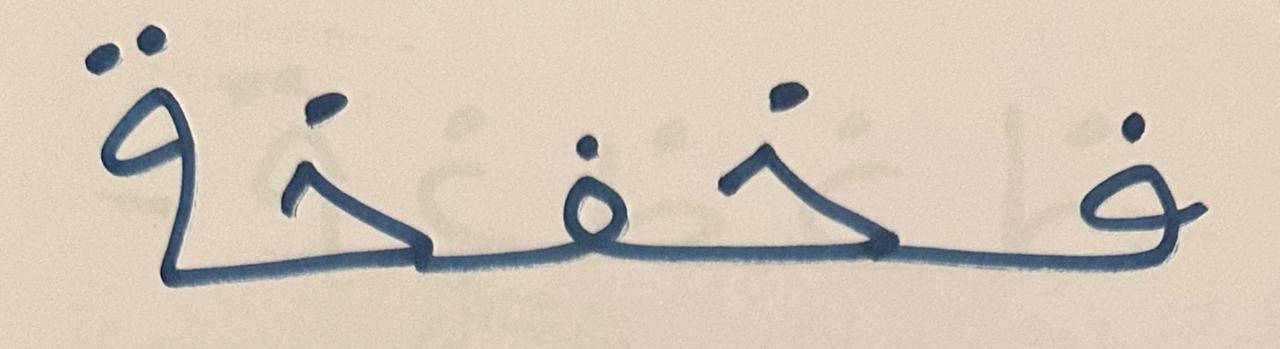feh: (929, 38, 1251, 319), (449, 49, 661, 319)
lam: (665, 7, 925, 323), (214, 59, 444, 315)
thal: (39, 0, 209, 315)
